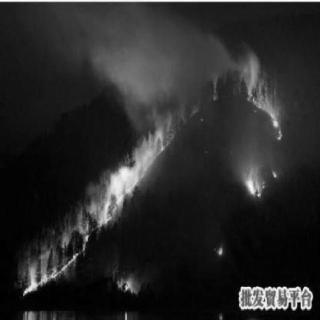Fire: (242, 51, 292, 143)
